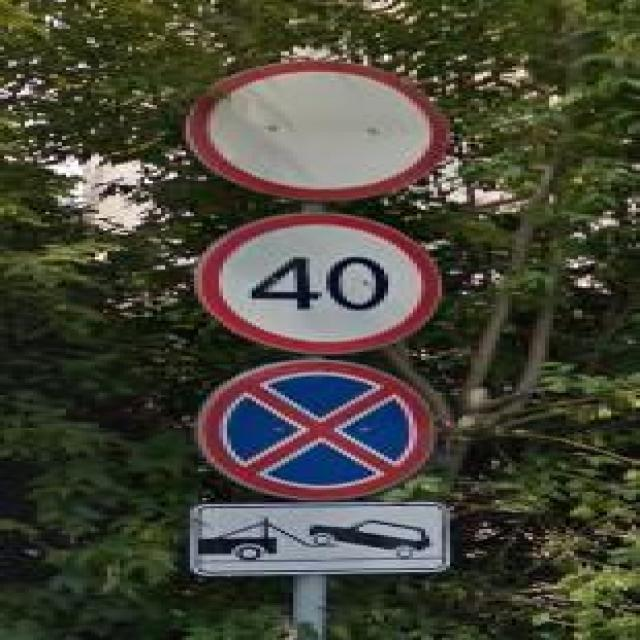speed limit 40: (195, 210, 444, 358)
